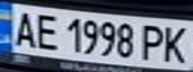1: (60, 15, 84, 54)
8: (115, 20, 139, 60)
9: (78, 16, 100, 55), (97, 18, 118, 57)
A: (9, 8, 42, 48)
E: (30, 10, 63, 52)
K: (157, 22, 193, 64)
P: (136, 21, 169, 62)
